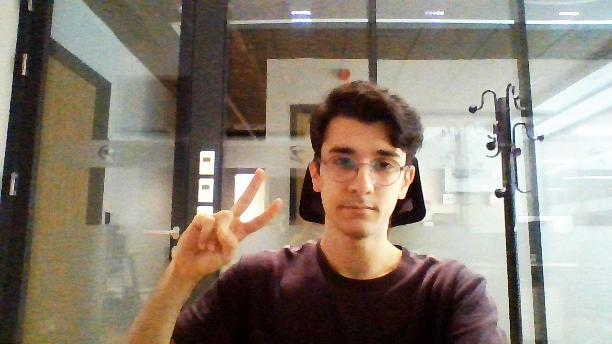Scissors: (168, 165, 284, 279)
